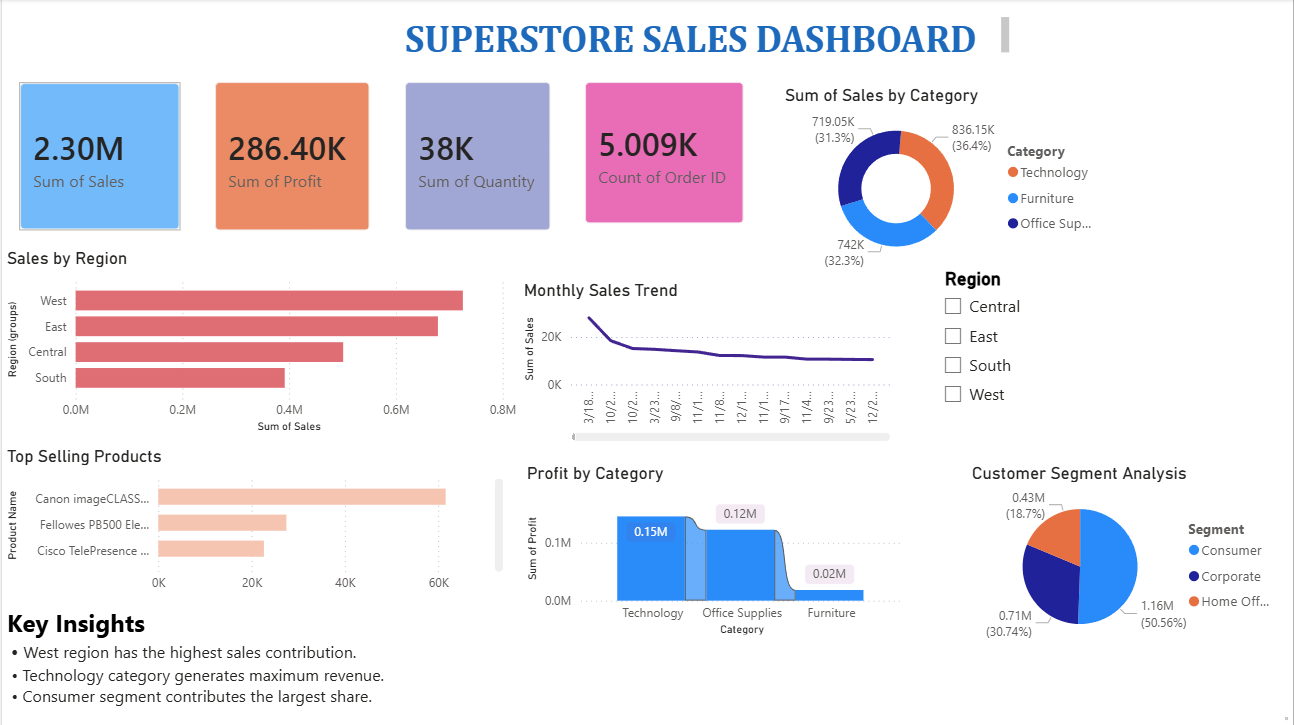

What the dashboard file says about the page in this screenshot:
{"tool":"powerbi","page":{"name":"Page 1","canvas":[1280,720],"ordinal":0},"visuals":[{"type":"cardVisual","fields":{"Data":["Sum(Sample - Superstore.Sales)"]},"box":[0,65.5,194.6,181.7],"z":0},{"type":"cardVisual","fields":{"Data":["Sum(Sample - Superstore.Profit)"]},"box":[194.6,65.5,187.7,181.7],"z":1000},{"type":"cardVisual","fields":{"Data":["Sum(Sample - Superstore.Quantity)"]},"box":[382.3,65.5,178.7,181.7],"z":2000},{"type":"cardVisual","fields":{"Data":["select","Count(Sample - Superstore.Order ID)"]},"box":[561.2,65.4,191.4,174.5],"z":3000},{"type":"clusteredBarChart","title":"Sales by Region","fields":{"Y":["Sum(Sample - Superstore.Sales)"],"Category":["Sample - Superstore.Region (groups)"]},"box":[0,247.3,515.4,187.7],"z":4000},{"type":"donutChart","fields":{"Category":["Sample - Superstore.Category"],"Y":["Sum(Sample - Superstore.Sales)"]},"box":[771.4,85.3,325.2,186.4],"z":5000},{"type":"lineChart","title":"Monthly Sales Trend","fields":{"Y":["Sum(Sample - Superstore.Sales)"],"Category":["Sample - Superstore.Order Date"]},"box":[512.6,278.6,372.8,164.6],"z":6000},{"type":"slicer","fields":{"Values":["Sample - Superstore.Region"]},"box":[922.1,261.8,193.3,158.6],"z":7000},{"type":"textbox","box":[0,707.7,12.7,12.7],"z":8000},{"type":"textbox","box":[0,707.7,12.7,12.7],"z":9000},{"type":"textbox","box":[1267.4,707.1,12.6,12.6],"z":10000},{"type":"textbox","box":[394.2,12.9,608.7,48.7],"z":11000},{"type":"barChart","title":"Top Selling Products","fields":{"Category":["Sample - Superstore.Product Name"],"Y":["Sum(Sample - Superstore.Sales)"]},"box":[0,443.2,501.7,153.7],"z":12000},{"type":"columnChart","title":"Profit by Category","fields":{"Category":["Sample - Superstore.Category"],"Y":["Sum(Sample - Superstore.Profit)"]},"box":[515.6,460,382.7,175.5],"z":13000},{"type":"pieChart","title":"Customer Segment Analysis","fields":{"Category":["Sample - Superstore.Segment"],"Y":["Sum(Sample - Superstore.Sales)"]},"box":[956.8,460,317.3,186.4],"z":14000},{"type":"textbox","box":[0,596.9,463,122.9],"z":15000}]}

Visuals, with their boxes in screenshot pixels (x1, y1, x2, y2), scaled from the page's 1280x720 canvas onto the 1294x725 screenshot:
cardVisual - Sum(Sample - Superstore.Sales): 0/66/197/249
cardVisual - Sum(Sample - Superstore.Profit): 197/66/386/249
cardVisual - Sum(Sample - Superstore.Quantity): 386/66/567/249
cardVisual - select x Count(Sample - Superstore.Order ID): 567/66/761/242
"Sales by Region" clusteredBarChart: 0/249/521/438
donutChart - Sample - Superstore.Category x Sum(Sample - Superstore.Sales): 780/86/1109/274
"Monthly Sales Trend" lineChart: 518/281/895/446
slicer - Sample - Superstore.Region: 932/264/1128/423
textbox: 0/713/13/724
textbox: 0/713/13/724
textbox: 1281/712/1293/724
textbox: 399/13/1014/62
"Top Selling Products" barChart: 0/446/507/601
"Profit by Category" columnChart: 521/463/908/640
"Customer Segment Analysis" pieChart: 967/463/1288/651
textbox: 0/601/468/724
